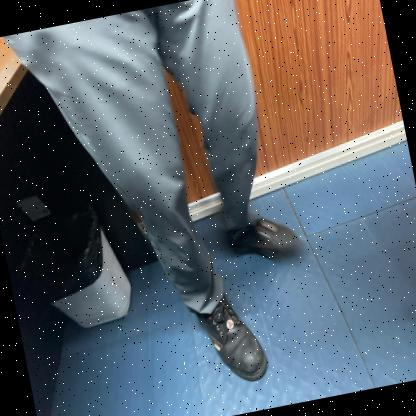bota: (184, 287, 272, 393)
